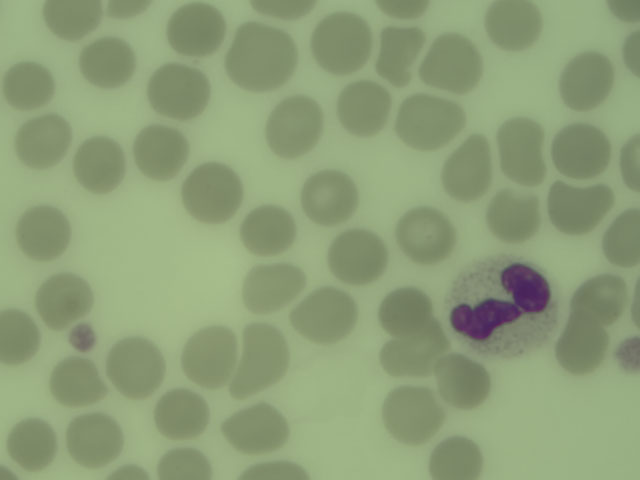RBC: (226, 23, 296, 91), (263, 91, 327, 161), (442, 133, 500, 200), (238, 320, 286, 394), (397, 98, 467, 147), (181, 326, 233, 391), (109, 335, 163, 395), (183, 160, 237, 218), (237, 258, 304, 303), (428, 427, 482, 480), (491, 166, 538, 226), (17, 207, 71, 259), (296, 290, 350, 342), (401, 208, 455, 260), (332, 229, 386, 281), (303, 170, 357, 222), (339, 77, 393, 129), (169, 1, 223, 53), (153, 64, 207, 116), (82, 34, 136, 86), (152, 385, 206, 437), (65, 409, 119, 461), (2, 417, 56, 469), (49, 353, 103, 405), (34, 271, 88, 323), (239, 203, 293, 255), (136, 126, 190, 178), (71, 140, 125, 192), (16, 113, 70, 165), (424, 35, 478, 87), (380, 384, 434, 436), (436, 354, 490, 406), (382, 320, 436, 372), (373, 286, 427, 338), (227, 397, 281, 449), (497, 120, 551, 172), (373, 25, 427, 77), (554, 122, 608, 174), (557, 50, 611, 102), (316, 15, 370, 67), (556, 322, 610, 374), (571, 276, 625, 328), (548, 180, 602, 232), (489, 1, 543, 52), (1, 61, 53, 113), (44, 1, 101, 40), (151, 447, 211, 480), (1, 309, 36, 363), (608, 213, 640, 267), (600, 1, 640, 21)
WBC: (443, 254, 552, 343)
